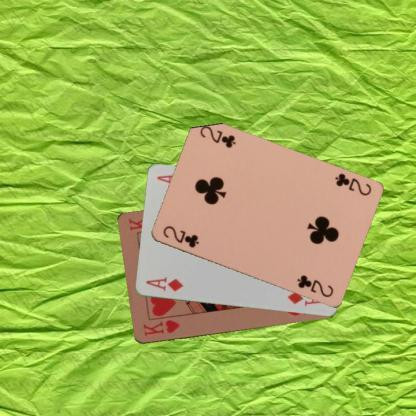2c: (160, 223, 200, 250), (332, 170, 372, 196)
Ad: (142, 274, 184, 292)
Kh: (140, 318, 181, 338)
